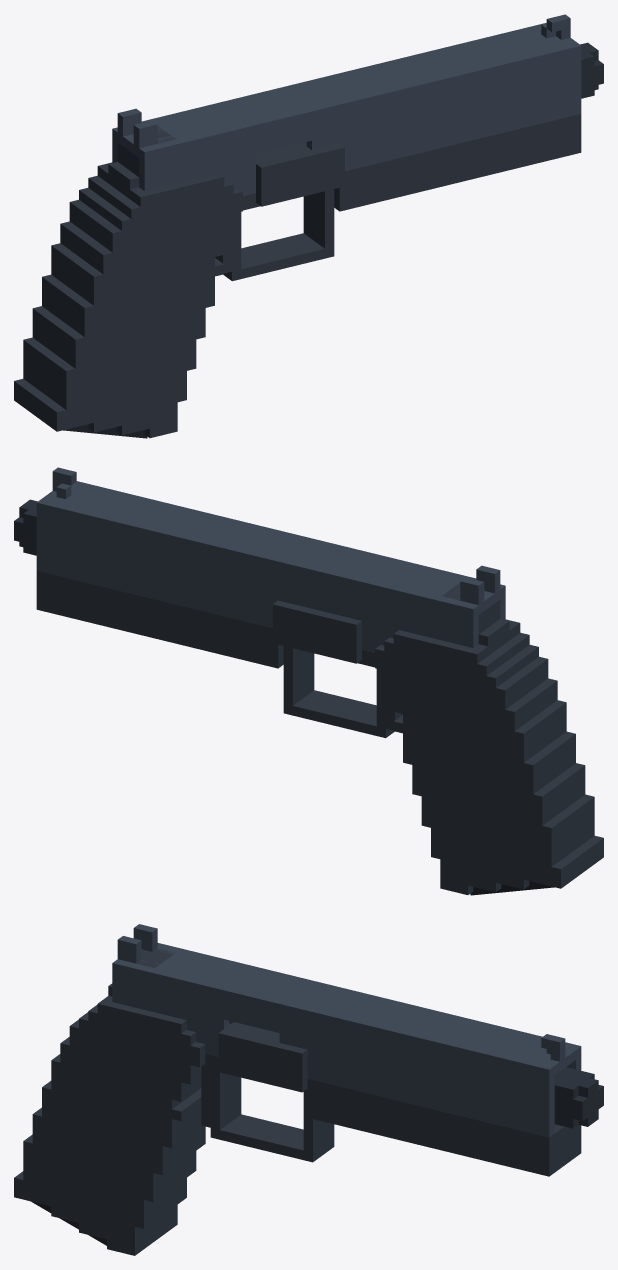
File: pistol_service.glb
The picture shows the model from 3 angles, top to bottom: view 1: azimuth 30°, elevation 25°; view 2: azimuth 150°, elevation 25°; view 3: azimuth 330°, elevation 25°; orthographic projection.
Parts seen in each view (by area): view 1: frame:frame, slide:slide, barrel:barrel; view 2: frame:frame, slide:slide, barrel:barrel; view 3: frame:frame, slide:slide, barrel:barrel.
Part boxes in pixels (x1,y1,x2,y2): frame:frame: (14, 114, 581, 438); slide:slide: (112, 14, 581, 196); barrel:barrel: (580, 42, 603, 98); frame:frame: (36, 571, 603, 894); slide:slide: (36, 467, 505, 653); barrel:barrel: (14, 499, 37, 555); frame:frame: (14, 948, 581, 1255); slide:slide: (112, 924, 581, 1137); barrel:barrel: (554, 1067, 603, 1128).
Size of the model in its own units: 0.24 by 0.126 by 0.032.
